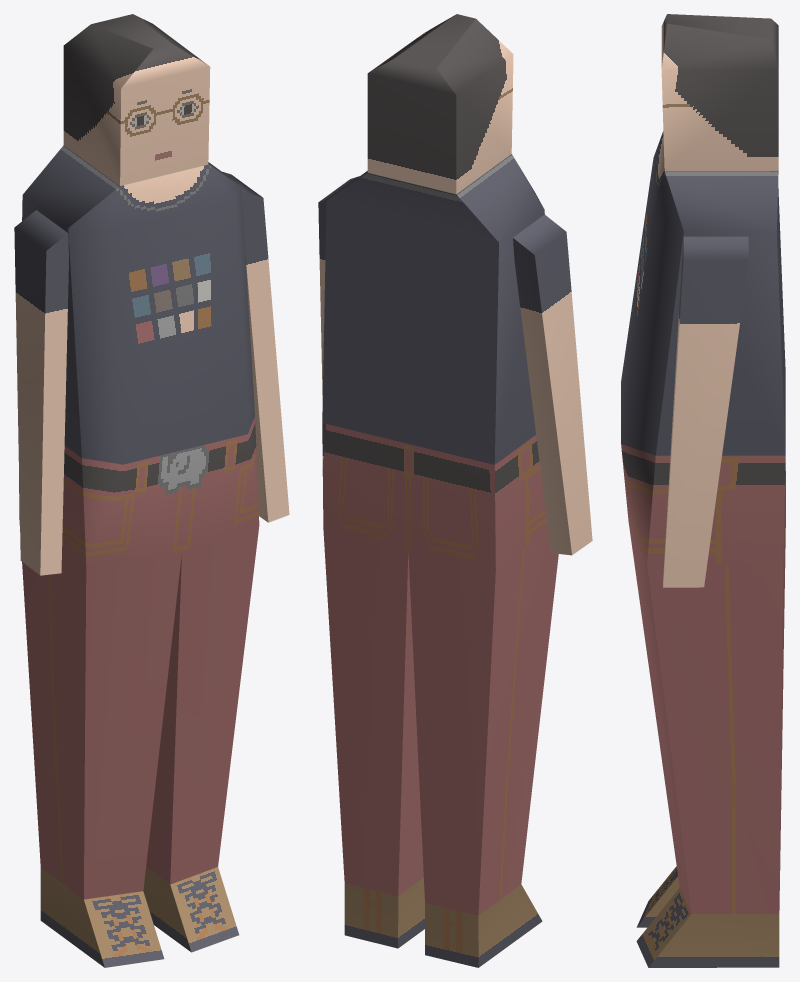
Rendered from 0593_Pretty_Boy.glb.
3 renders of one model, left to right at view 1: azimuth 30°, elevation 25°; view 2: azimuth 150°, elevation 25°; view 3: azimuth 270°, elevation 25°, orthographic. The views are drawn at different scales.
Visible parts, largest first — view 1: part_0; view 2: part_0; view 3: part_0.
Part boxes in pixels (x1=…): part_0: x1=14, y1=14, x2=289, y2=967; part_0: x1=318, y1=14, x2=592, y2=967; part_0: x1=621, y1=14, x2=785, y2=967.
Bounding box in the file's own units: 0.4828 × 1.66 × 0.2714.
1 material, 1 textured.
